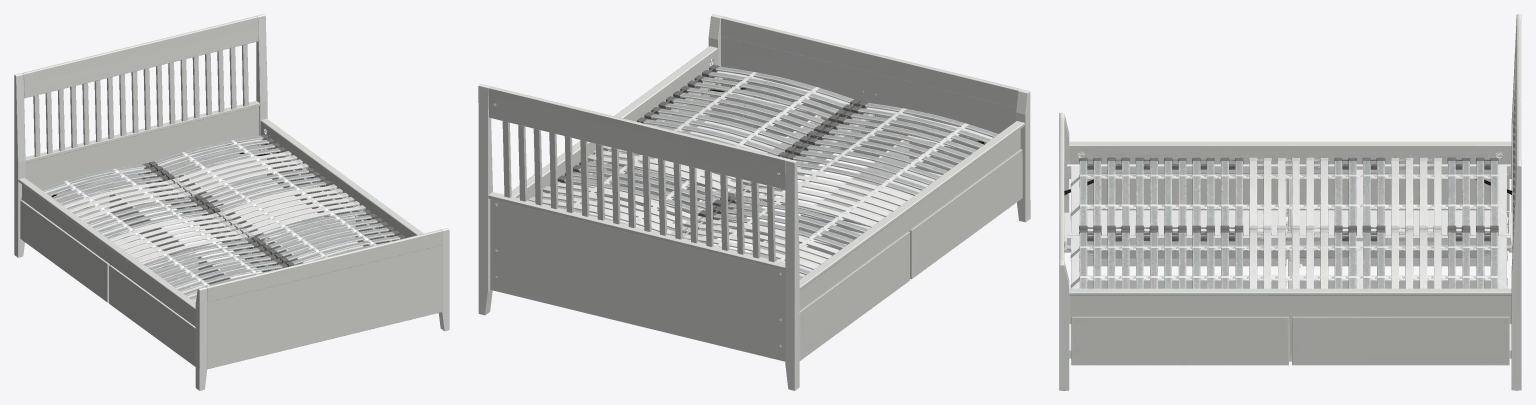
3 views of the same model, side by side, from view 1: azimuth 30°, elevation 25°; view 2: azimuth 150°, elevation 25°; view 3: azimuth 270°, elevation 25° (orthographic). The views are drawn at different scales.
Visible parts, largest first — view 1: base_bedsize; view 2: base_bedsize; view 3: base_bedsize.
Boxes of the visible parts, <box> form: base_bedsize: <box>14,14,449,390</box>; base_bedsize: <box>478,14,1030,390</box>; base_bedsize: <box>1059,14,1521,390</box>.
Bounding box in the file's own units: 1.62 × 1.12 × 2.08.
1 material, 1 textured.
